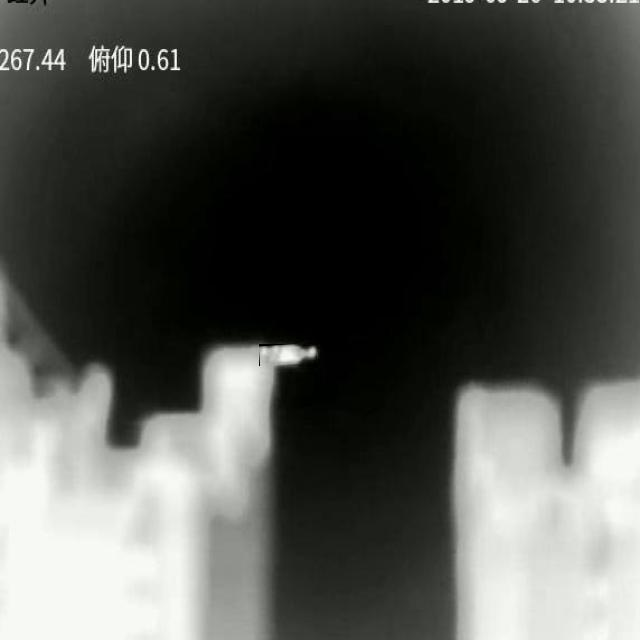drone: (260, 344, 317, 366)
